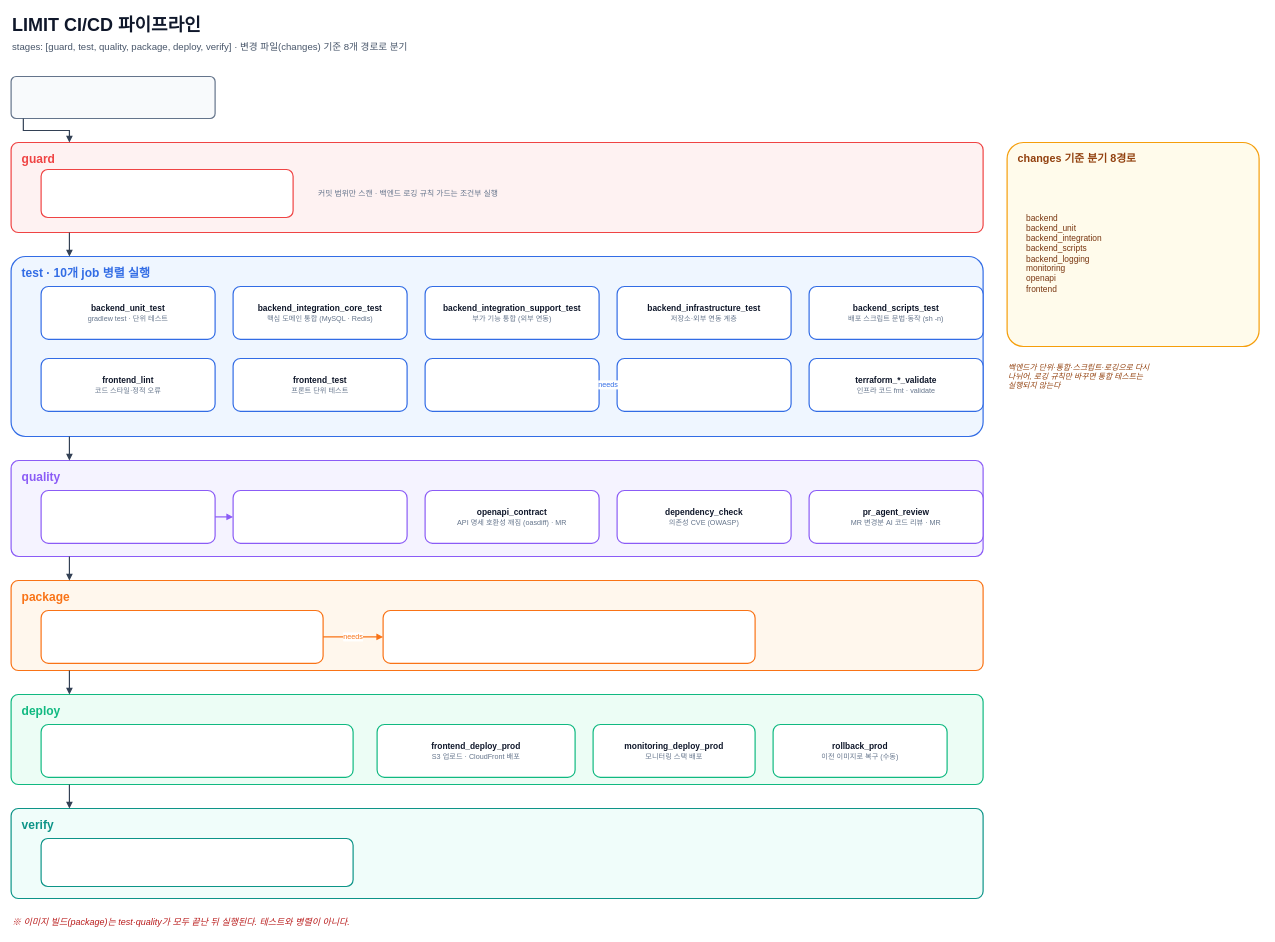
Some shapes in this 1275 by 942 pixel diagram are drawn without their labels. The shapes that lost their labels are listed below. From the top down, each one's centre as x and y in pixels, then its label:
the point at 112,97: GitLab push (dev · main) / Merge Request
the point at 166,193: secret_guard 커밋에 비밀키·토큰이 들어갔는지 (gitleaks)
the point at 511,385: windows_scanner_build Windows 진단 exe 빌드
the point at 703,385: frontend_build 정적 파일 빌드 (exe 포함)
the point at 127,517: backend_coverage_report JaCoCo 커버리지 병합
the point at 319,517: sonarqube 코드 스멜·중복·취약 패턴
the point at 181,637: backend_image Docker 이미지 빌드 · digest 고정
the point at 568,637: container_scan 이미지 OS·패키지 취약점 (Trivy) · HIGH,CRITICAL 시 배포 중단
the point at 196,751: deploy_prod EC2 Blue/Green · readiness 통과 후 nginx 전환
the point at 196,862: frontend_smoke_prod 배포 후 실제 URL과 API /health 응답 확인
